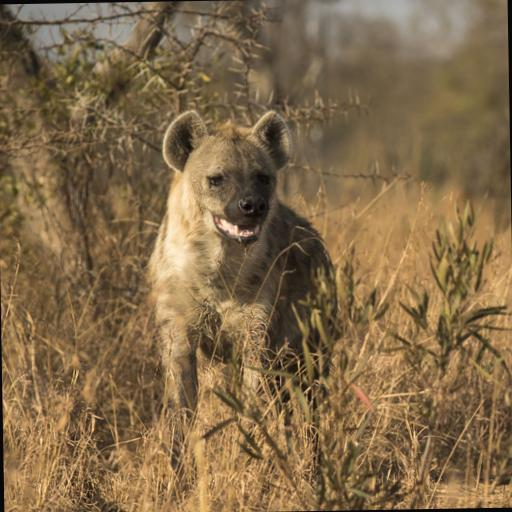hyenas: (100, 98, 438, 470)
